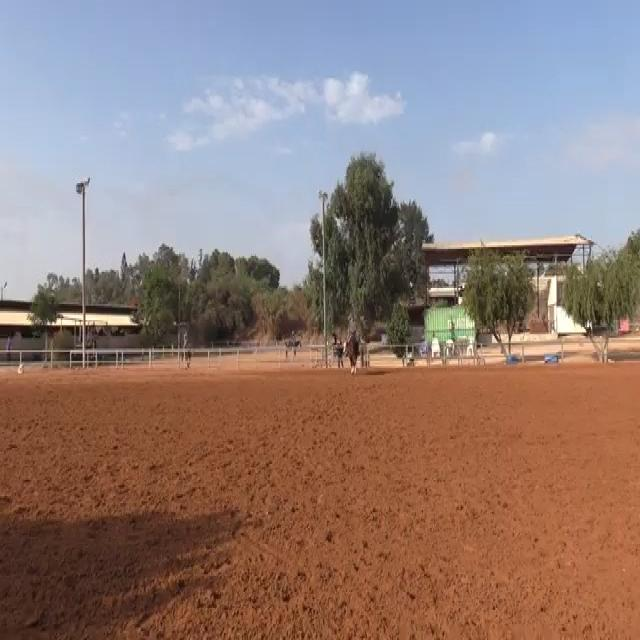horse: (330, 324, 363, 375)
